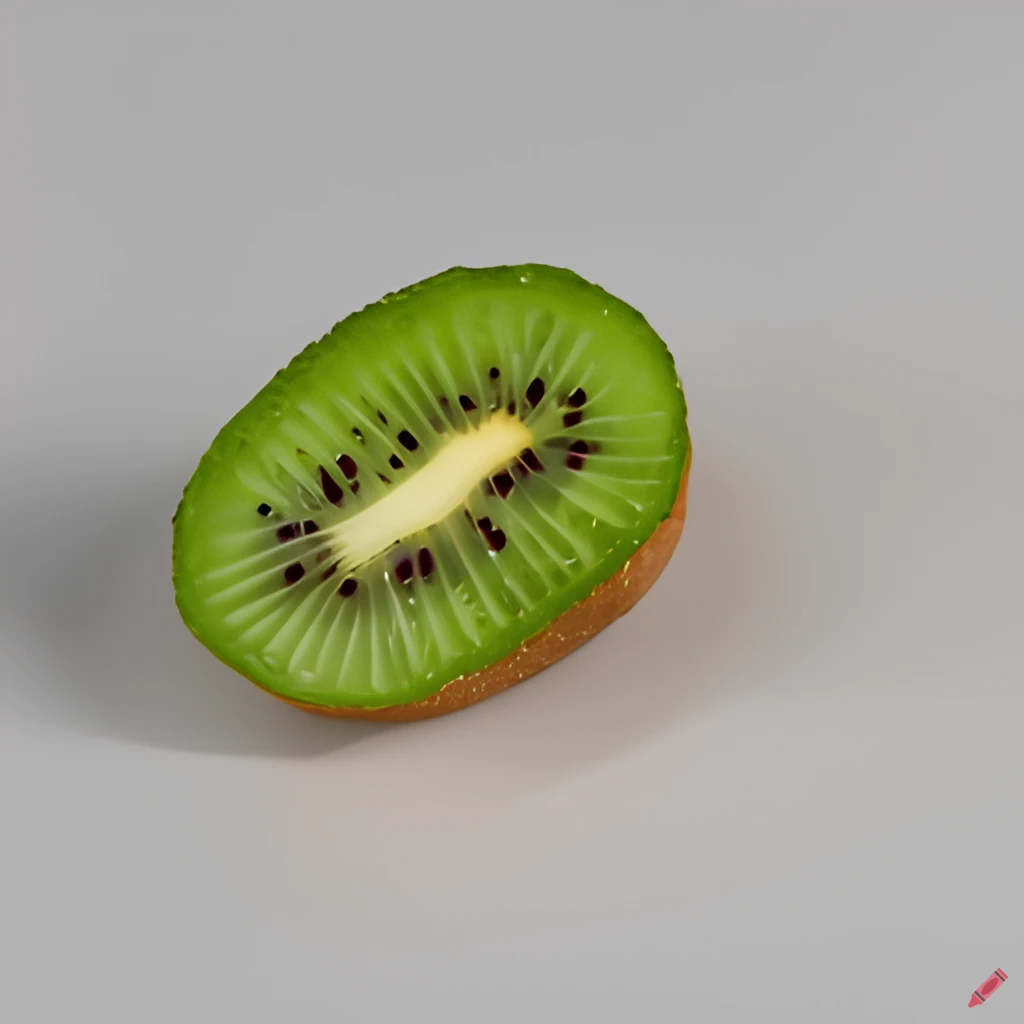Kiwi: (110, 207, 764, 770)
